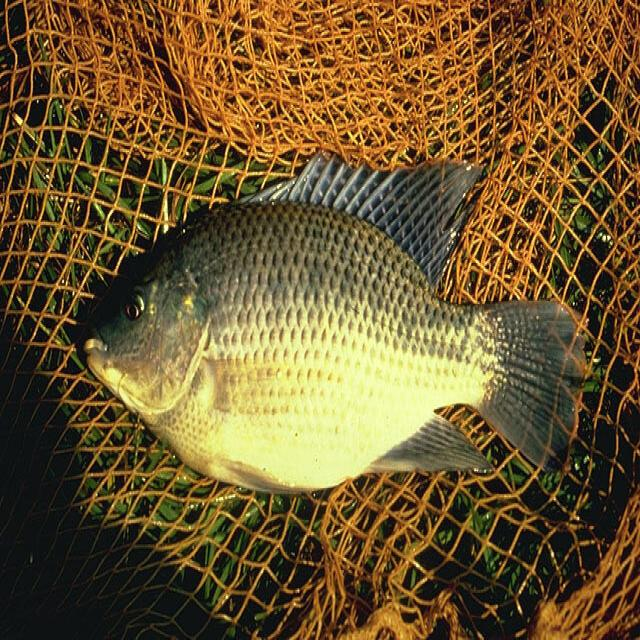ikan: (72, 140, 600, 528)
